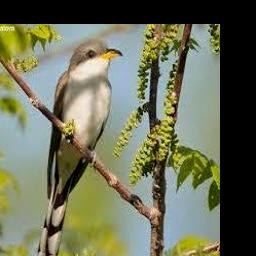Cuckoo: (34, 42, 123, 256)
